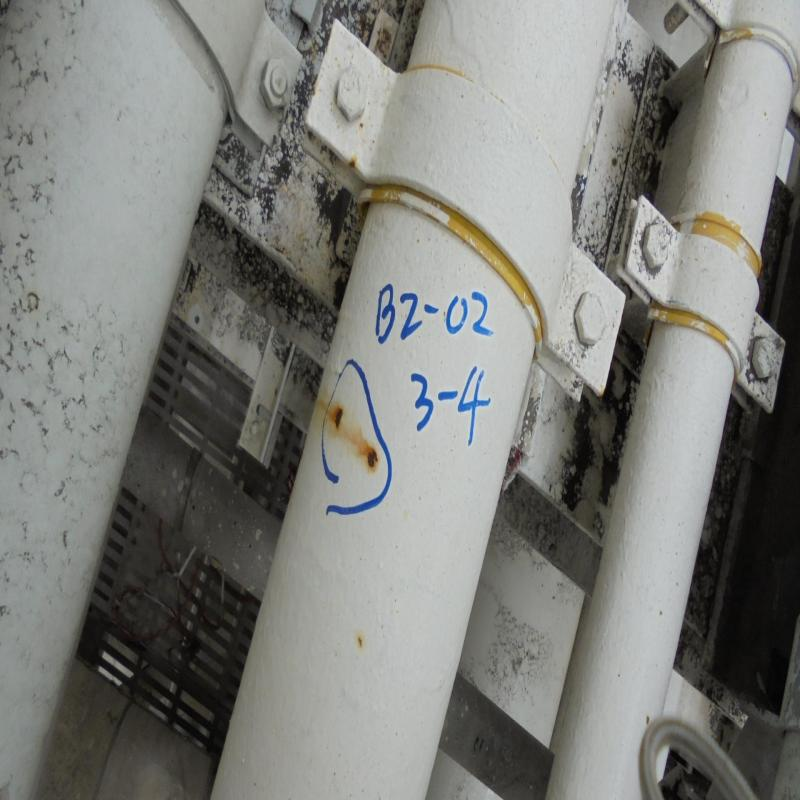corrosion: (362, 446, 382, 471), (333, 409, 348, 434)
